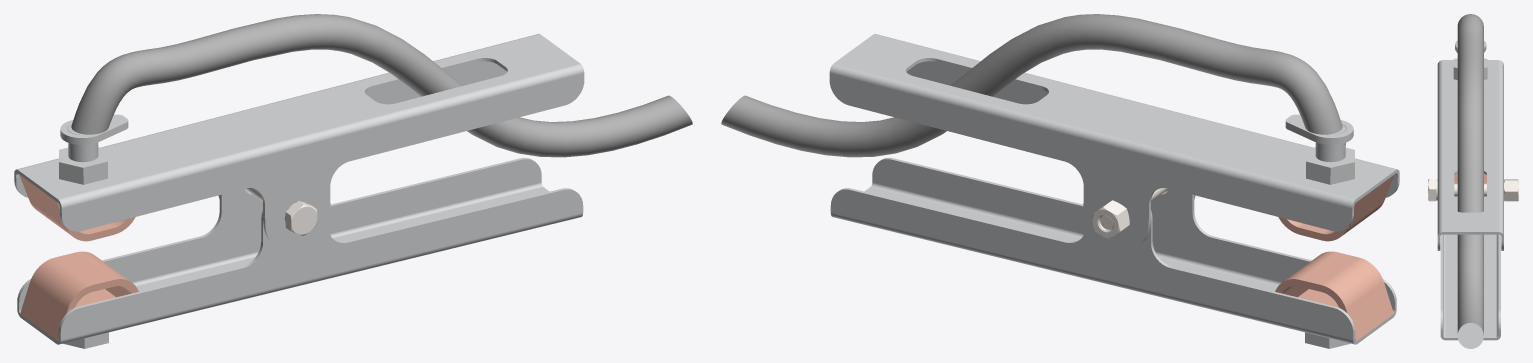
Rendered from TCC-24.001-U01-30 v1.fbx.
3 renders of one model, left to right at view 1: azimuth 30°, elevation 25°; view 2: azimuth 150°, elevation 25°; view 3: azimuth 270°, elevation 25°, orthographic. The views are drawn at different scales.
Visible parts, largest first — view 1: Body5, Body1, Body3; view 2: Body5, Body1, Body4; view 3: Body5, Body1, Body4, Body3.
Part boxes in pixels (x1,y1,x2,y2): Body5: (14, 14, 692, 250); Body1: (17, 157, 583, 348); Body3: (245, 188, 317, 235); Body5: (721, 14, 1399, 250); Body1: (830, 157, 1396, 348); Body4: (1092, 200, 1129, 239); Body5: (1437, 14, 1503, 348); Body1: (1440, 173, 1500, 340); Body4: (1504, 179, 1518, 201); Body3: (1428, 179, 1486, 201).
Bounding box in the file's own units: 19.92 × 7.92 × 3.43.
